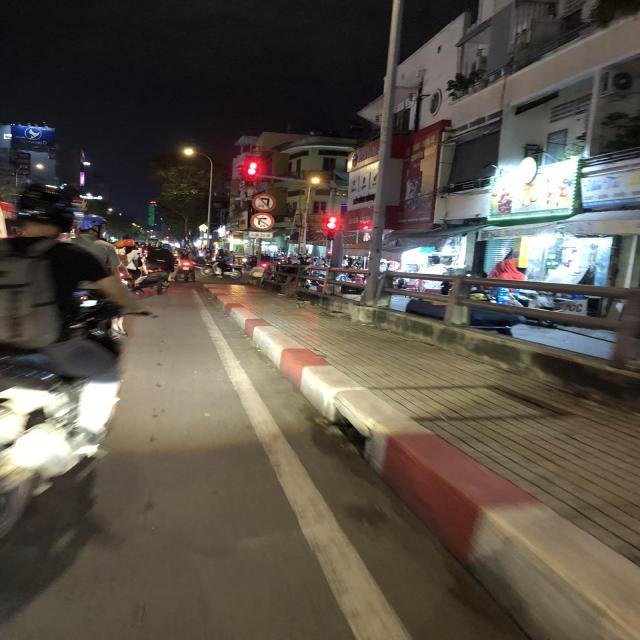Bien bao cam xe o to re phai: (250, 212, 276, 232)
Bien bao cam xe o to re trai: (251, 192, 278, 213)
